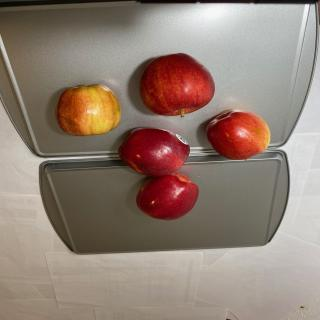Apple: (139, 52, 215, 118), (118, 127, 190, 177), (56, 84, 121, 136), (206, 109, 271, 161), (136, 171, 199, 221)
